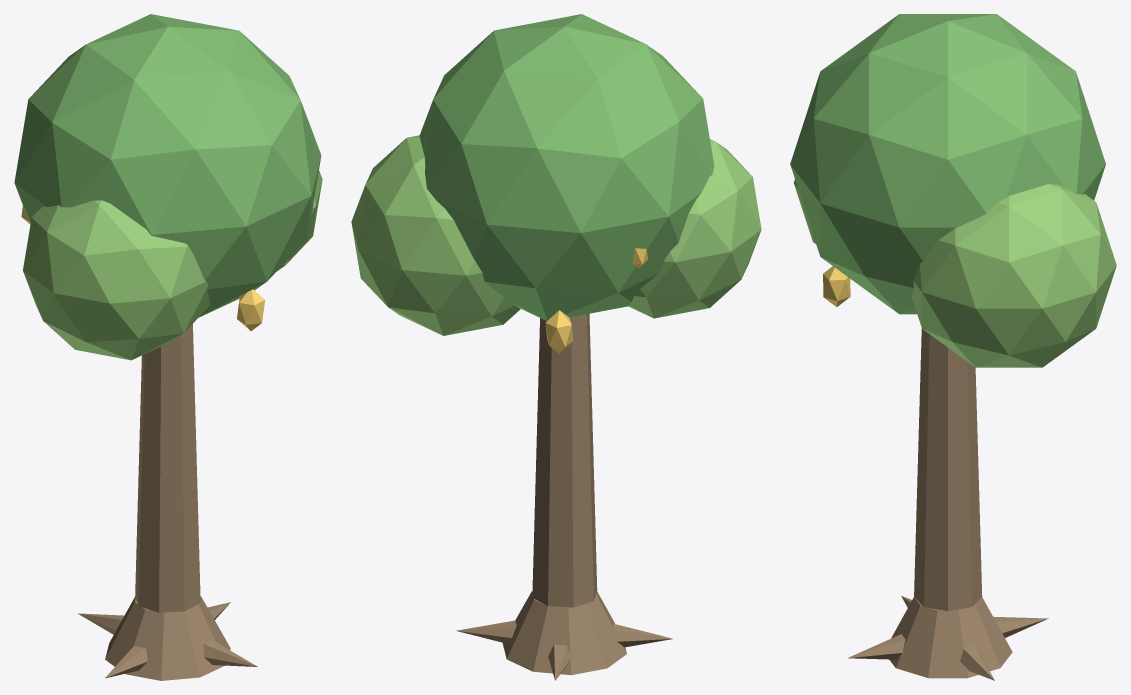
File: 50-Vegetacion_arbol_frutal.glb
The picture shows the model from 3 angles, left to right: view 1: azimuth 30°, elevation 25°; view 2: azimuth 150°, elevation 25°; view 3: azimuth 270°, elevation 25°; orthographic projection.
Visible parts, largest first — view 1: SM_Frutal_M_Frutal_Hoja, SM_Frutal_M_Frutal_Corteza, SM_Frutal_M_Frutal_HojaClr, SM_Frutal_M_Frutal_Fruto; view 2: SM_Frutal_M_Frutal_Hoja, SM_Frutal_M_Frutal_HojaClr, SM_Frutal_M_Frutal_Corteza, SM_Frutal_M_Frutal_Fruto; view 3: SM_Frutal_M_Frutal_Hoja, SM_Frutal_M_Frutal_HojaClr, SM_Frutal_M_Frutal_Corteza, SM_Frutal_M_Frutal_Fruto.
Boxes of the visible parts, x1,y1,x2,y2 form: SM_Frutal_M_Frutal_Hoja: (14,14,321,317); SM_Frutal_M_Frutal_Corteza: (77,324,257,680); SM_Frutal_M_Frutal_HojaClr: (23,170,322,360); SM_Frutal_M_Frutal_Fruto: (21,206,264,330); SM_Frutal_M_Frutal_Hoja: (419,14,714,320); SM_Frutal_M_Frutal_HojaClr: (351,135,761,335); SM_Frutal_M_Frutal_Corteza: (456,313,673,680); SM_Frutal_M_Frutal_Fruto: (545,248,648,353); SM_Frutal_M_Frutal_Hoja: (790,14,1105,314); SM_Frutal_M_Frutal_HojaClr: (794,180,1116,367); SM_Frutal_M_Frutal_Corteza: (847,328,1048,680); SM_Frutal_M_Frutal_Fruto: (823,266,850,306).
Bounding box in the file's own units: 3.25 × 6 × 2.81.
